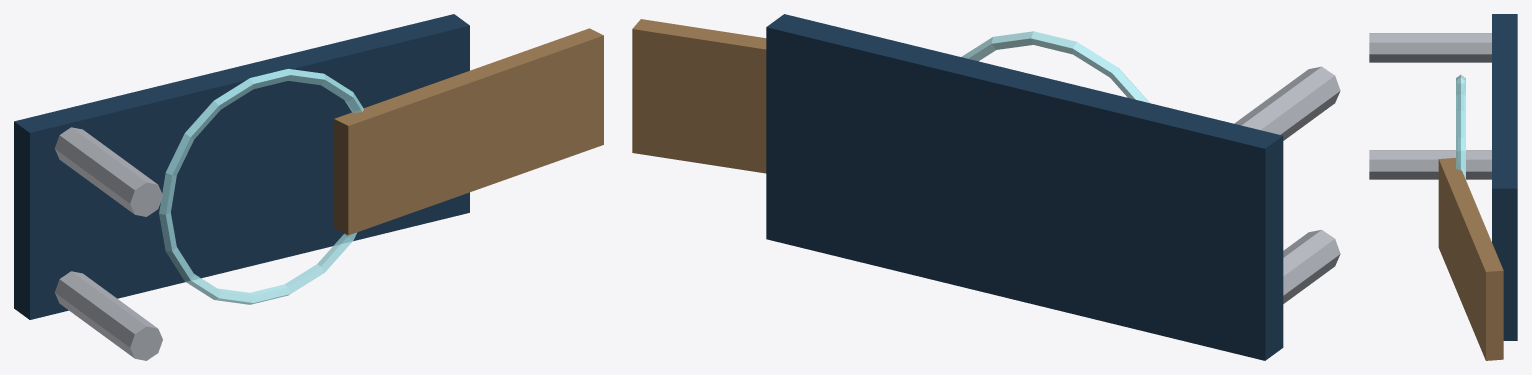
The model's file is 10_skyship_dock.glb.
3 views of the same model, side by side, from view 1: azimuth 30°, elevation 25°; view 2: azimuth 150°, elevation 25°; view 3: azimuth 270°, elevation 25° (orthographic). The views are drawn at different scales.
Visible parts, largest first — view 1: dock_platform, boarding_ramp, dock_marker_ring, mooring_post_l, mooring_post_r; view 2: dock_platform, boarding_ramp, mooring_post_r, dock_marker_ring, mooring_post_l; view 3: boarding_ramp, dock_platform, mooring_post_r, mooring_post_l, dock_marker_ring.
Part boxes in pixels (x1,y1,x2,y2): dock_platform: (14,14,469,319); boarding_ramp: (334,28,603,235); dock_marker_ring: (159,68,363,304); mooring_post_l: (54,271,162,360); mooring_post_r: (54,127,162,216); dock_platform: (766,14,1283,360); boarding_ramp: (632,19,766,173); mooring_post_r: (1234,66,1340,140); dock_marker_ring: (961,31,1149,102); mooring_post_l: (1283,230,1340,303); boarding_ramp: (1438,158,1503,360); dock_platform: (1492,14,1517,340); mooring_post_r: (1369,33,1491,62); mooring_post_l: (1369,150,1491,179); dock_marker_ring: (1456,74,1465,179).
Size of the model in its own units: 2.28 by 0.8666 by 0.6325.
